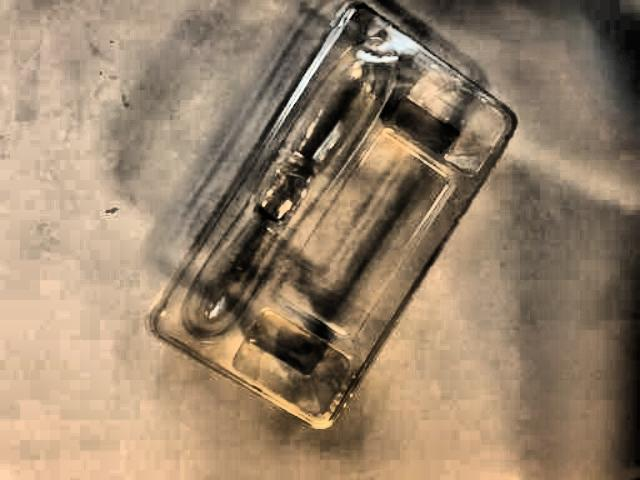Plastic: (147, 0, 523, 444)
